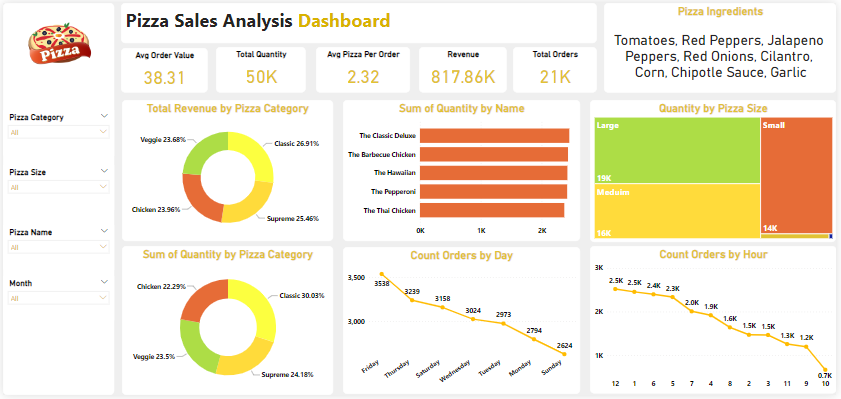

This screenshot's page, from the dashboard's own definition file:
{"tool":"powerbi","page":{"name":"Page 1","canvas":[1700,800],"ordinal":0},"visuals":[{"type":"card","title":"Revenue","fields":{"Values":["Sum(pizza_sales.total_price)"]},"box":[849,90.7,179.3,92.7],"z":0},{"type":"card","title":"Avg Order Value","fields":{"Values":["Measure.Avg_order_Value"]},"box":[241.1,92.7,177.2,90.7],"z":1000},{"type":"card","title":"Total Quantity","fields":{"Values":["Sum(pizza_sales.quantity)"]},"box":[434.8,90.7,183.4,92.7],"z":2000},{"type":"card","title":"Total Orders","fields":{"Values":["Measure.Total_orders"]},"box":[1040.6,90.7,171,92.7],"z":3000},{"type":"card","title":"Avg Pizza Per Order","fields":{"Values":["Measure.Avg_Pizzas_per_order"]},"box":[638.8,90.7,191.6,92.7],"z":4000},{"type":"lineChart","title":"Count Orders by Day","fields":{"Y":["Count(pizza_sales.order_id)"],"Category":["pizza_sales.order_day"]},"box":[693.9,498,483.7,300],"z":5000},{"type":"lineChart","title":"Count Orders by Hour","fields":{"Y":["Count(pizza_sales.order_id)"],"Category":["pizza_sales.order_hour"]},"box":[1197.2,496.6,502.8,300.8],"z":6000},{"type":"donutChart","title":"Total Revenue by Pizza Category","fields":{"Category":["pizza_sales.pizza_category"],"Y":["Sum(pizza_sales.total_price)"]},"box":[242.9,198,430.6,287.8],"z":7000},{"type":"donutChart","title":"Sum of Quantity by Pizza Category","fields":{"Category":["pizza_sales.pizza_category"],"Y":["Sum(pizza_sales.quantity)"]},"box":[242.9,495.9,430.6,304.1],"z":8000},{"type":"clusteredBarChart","title":"Sum of Quantity by Name","fields":{"Category":["pizza_sales._name"],"Y":["Sum(pizza_sales.quantity)"]},"box":[693.9,198,483.7,287.8],"z":9000},{"type":"treemap","title":"Quantity by Pizza Size","fields":{"Group":["pizza_sales.pizza_Smallize"],"Values":["Sum(pizza_sales.quantity)"]},"box":[1198,198,502,289.8],"z":10000},{"type":"textbox","box":[0,0,226.5,800],"z":10500},{"type":"card","title":"Pizza Ingredients","fields":{"Values":["Max(pizza_sales.pizza_ingredients)"]},"box":[1226.1,0,473.9,183.4],"z":11000},{"type":"textbox","box":[241.1,0,970.5,82.4],"z":13000},{"type":"image","box":[0,26.5,226.5,112.2],"z":14000},{"type":"slicer","fields":{"Values":["pizza_sales.pizza_Smallize"]},"box":[0,329.7,226.7,90.7],"z":15000},{"type":"slicer","fields":{"Values":["pizza_sales.pizza_category"]},"box":[0,218.4,226.7,92.7],"z":16000},{"type":"slicer","fields":{"Values":["pizza_sales._name"]},"box":[0,453.3,226.7,90.7],"z":17000},{"type":"slicer","fields":{"Values":["pizza_sales.Month"]},"box":[0,557.1,226.5,89.8],"z":18000}]}

Visuals, with their boxes in screenshot pixels (x1, y1, x2, y2), scaled from the page's 1700x800 canvas onto the 841x399 screenshot:
"Revenue" card: Rect(420, 45, 509, 91)
"Avg Order Value" card: Rect(119, 46, 207, 91)
"Total Quantity" card: Rect(215, 45, 306, 91)
"Total Orders" card: Rect(515, 45, 599, 91)
"Avg Pizza Per Order" card: Rect(316, 45, 411, 91)
"Count Orders by Day" lineChart: Rect(343, 248, 583, 398)
"Count Orders by Hour" lineChart: Rect(592, 248, 840, 398)
"Total Revenue by Pizza Category" donutChart: Rect(120, 99, 333, 242)
"Sum of Quantity by Pizza Category" donutChart: Rect(120, 247, 333, 398)
"Sum of Quantity by Name" clusteredBarChart: Rect(343, 99, 583, 242)
"Quantity by Pizza Size" treemap: Rect(593, 99, 840, 243)
textbox: Rect(0, 0, 112, 398)
"Pizza Ingredients" card: Rect(607, 0, 840, 91)
textbox: Rect(119, 0, 599, 41)
image: Rect(0, 13, 112, 69)
slicer - pizza_sales.pizza_Smallize: Rect(0, 164, 112, 210)
slicer - pizza_sales.pizza_category: Rect(0, 109, 112, 155)
slicer - pizza_sales._name: Rect(0, 226, 112, 271)
slicer - pizza_sales.Month: Rect(0, 278, 112, 323)
